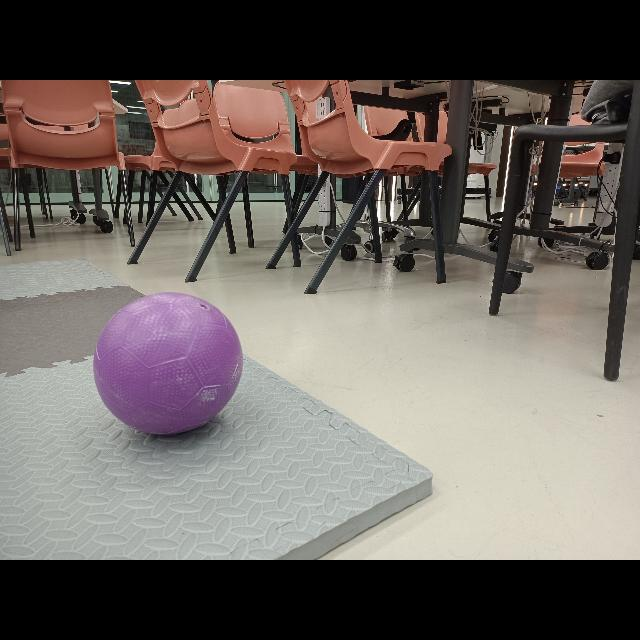P: (87, 291, 241, 435)
